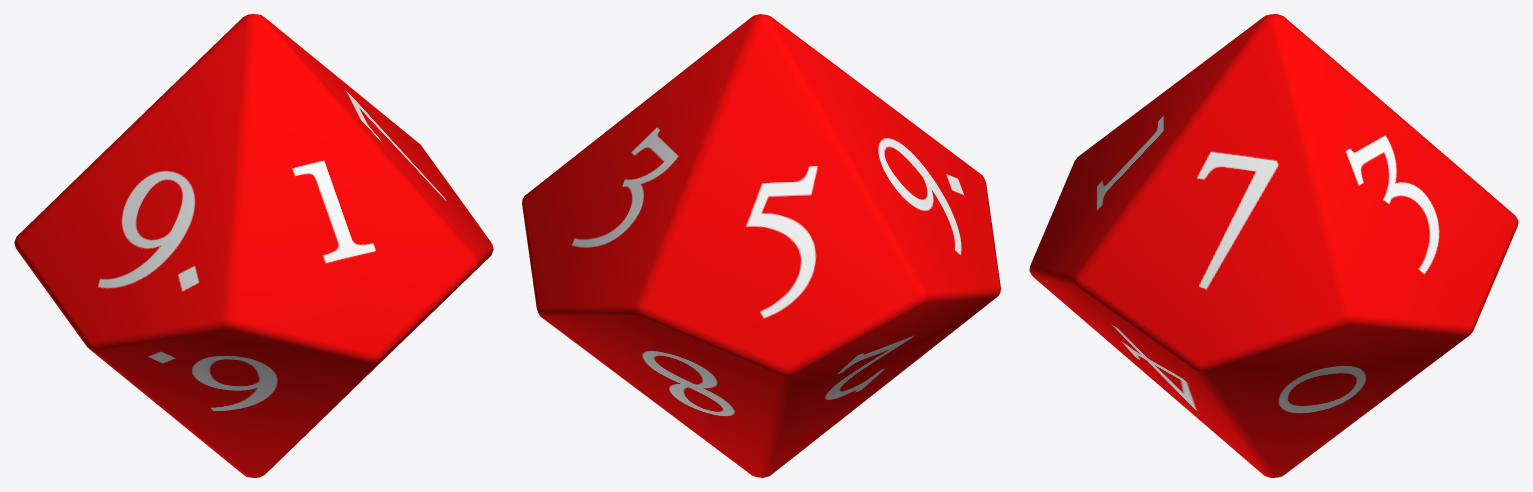
3 renders of one model, left to right at view 1: azimuth 30°, elevation 25°; view 2: azimuth 150°, elevation 25°; view 3: azimuth 270°, elevation 25°, orthographic.
Visible parts, largest first — view 1: D10; view 2: D10; view 3: D10.
Boxes of the visible parts, x1=… form: D10: x1=14, y1=14, x2=493, y2=477; D10: x1=522, y1=14, x2=1000, y2=477; D10: x1=1029, y1=14, x2=1518, y2=477.
Bounding box in the file's own units: 0.588 × 0.6442 × 0.6157.
Materials: 1 (1 with a texture image).
